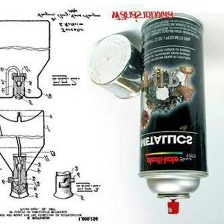aerosol_cans: (132, 7, 212, 220)
